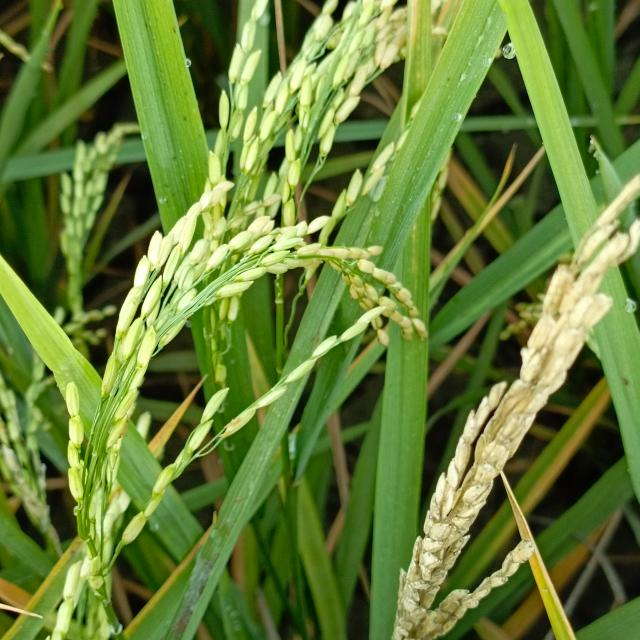Brown spot: (540, 387, 612, 488), (524, 563, 581, 640), (155, 369, 210, 446), (447, 169, 485, 215), (502, 478, 530, 534)
insects: (618, 368, 632, 394), (181, 88, 192, 101), (180, 114, 191, 125), (142, 20, 152, 31), (196, 131, 205, 141), (171, 25, 178, 36), (445, 74, 452, 84), (171, 153, 178, 162), (164, 198, 171, 207), (162, 182, 169, 190)
